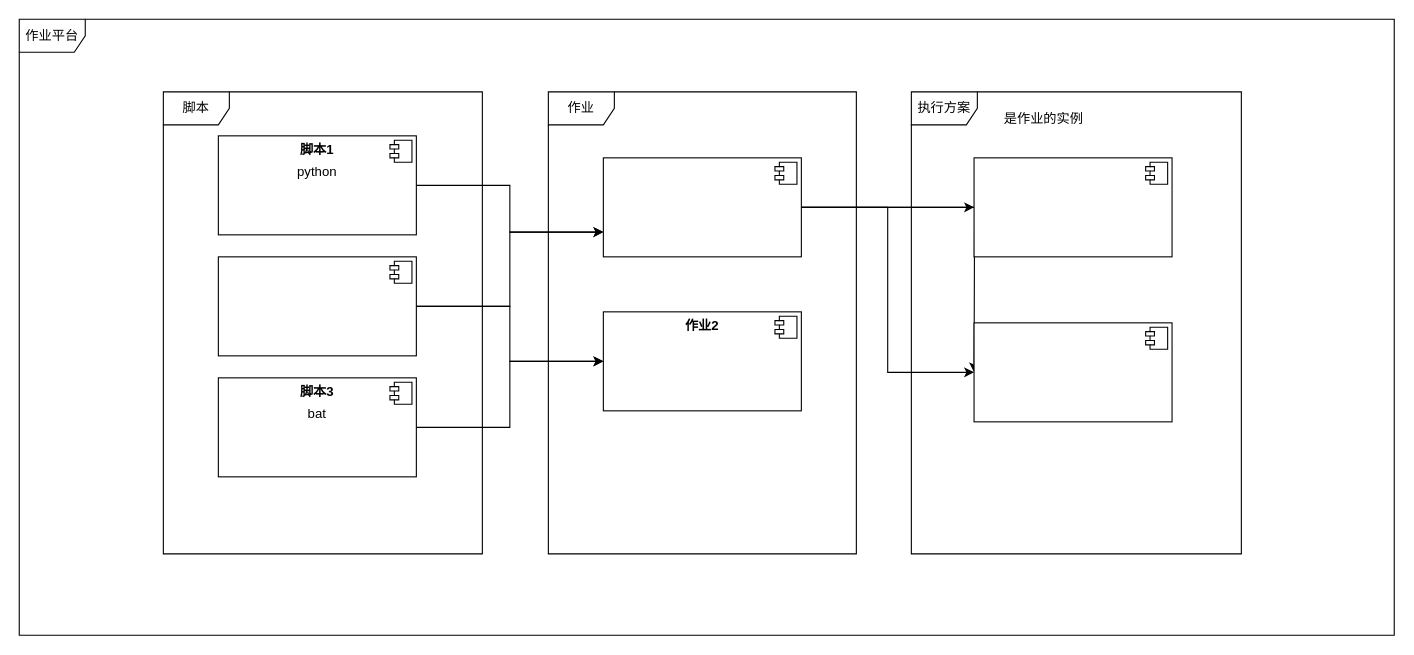
Some shapes in this 1414 by 655 pixel diagram are drawn without their labels. Each missing label, with the centre of its shape:
作业1 脚本1，脚本2 执行机器 变量: pixel 701 207
执行方案1 脚本1（执行） 脚本2（不执行） 实际变量（SERVER_MODE=LOCAL): pixel 1072 207
执行方案2 脚本1（执行） 脚本2（执行） 实际变量（SERVER_MODE=DEV): pixel 1072 372
脚本2 shell: pixel 316 306
